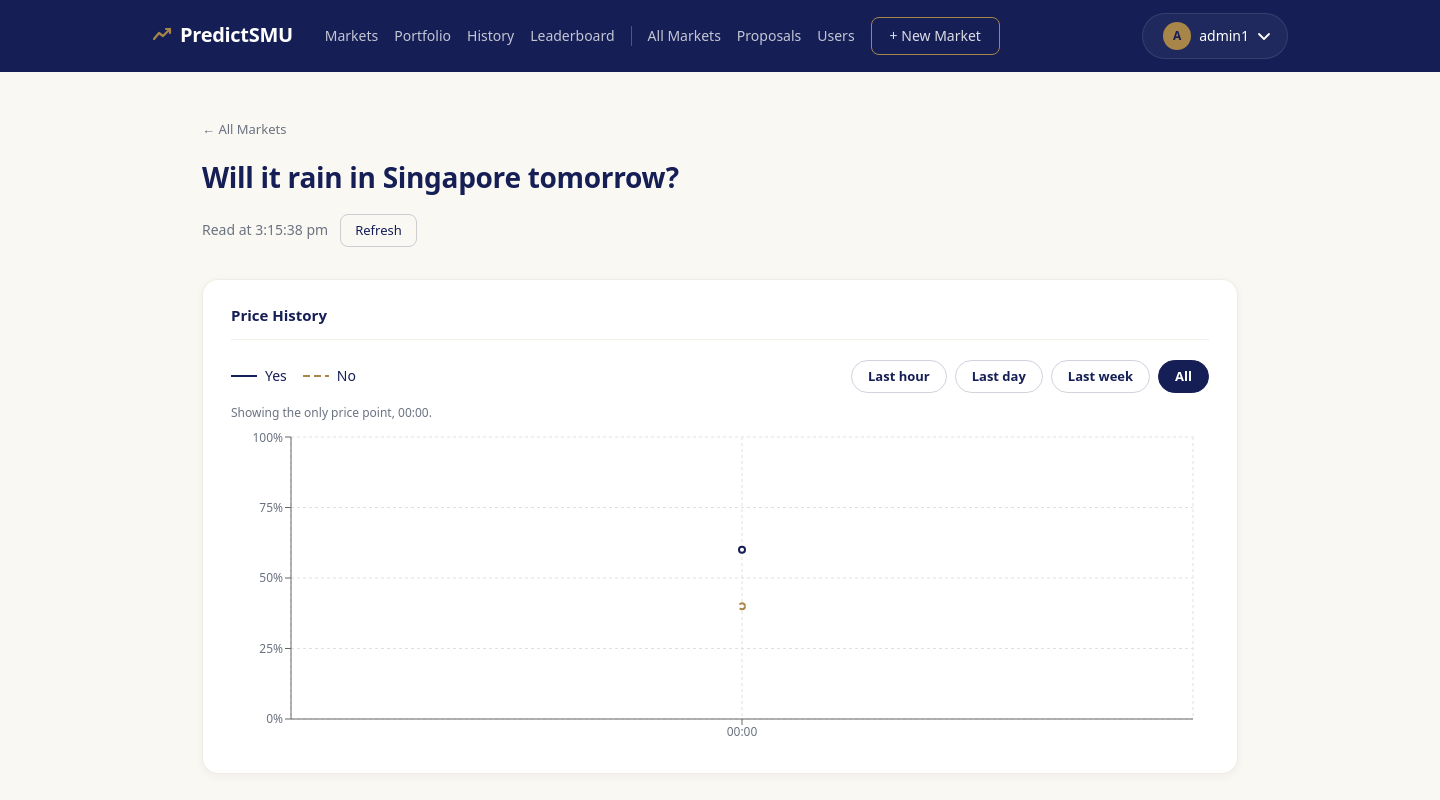
Test case: MarketPriceHistoryPage › says when the screen was read, and reads the chart and the trade log again on Refresh
Expected: the text "Showing the only price point, 00:00." is shown, [231,404,432,421]
Expected: the text "Read at 3:15:38 pm" is shown, [202,220,328,240]
Click the button "Refresh". click: (378, 230)
box: [340,214,417,247]
(page scrolled)
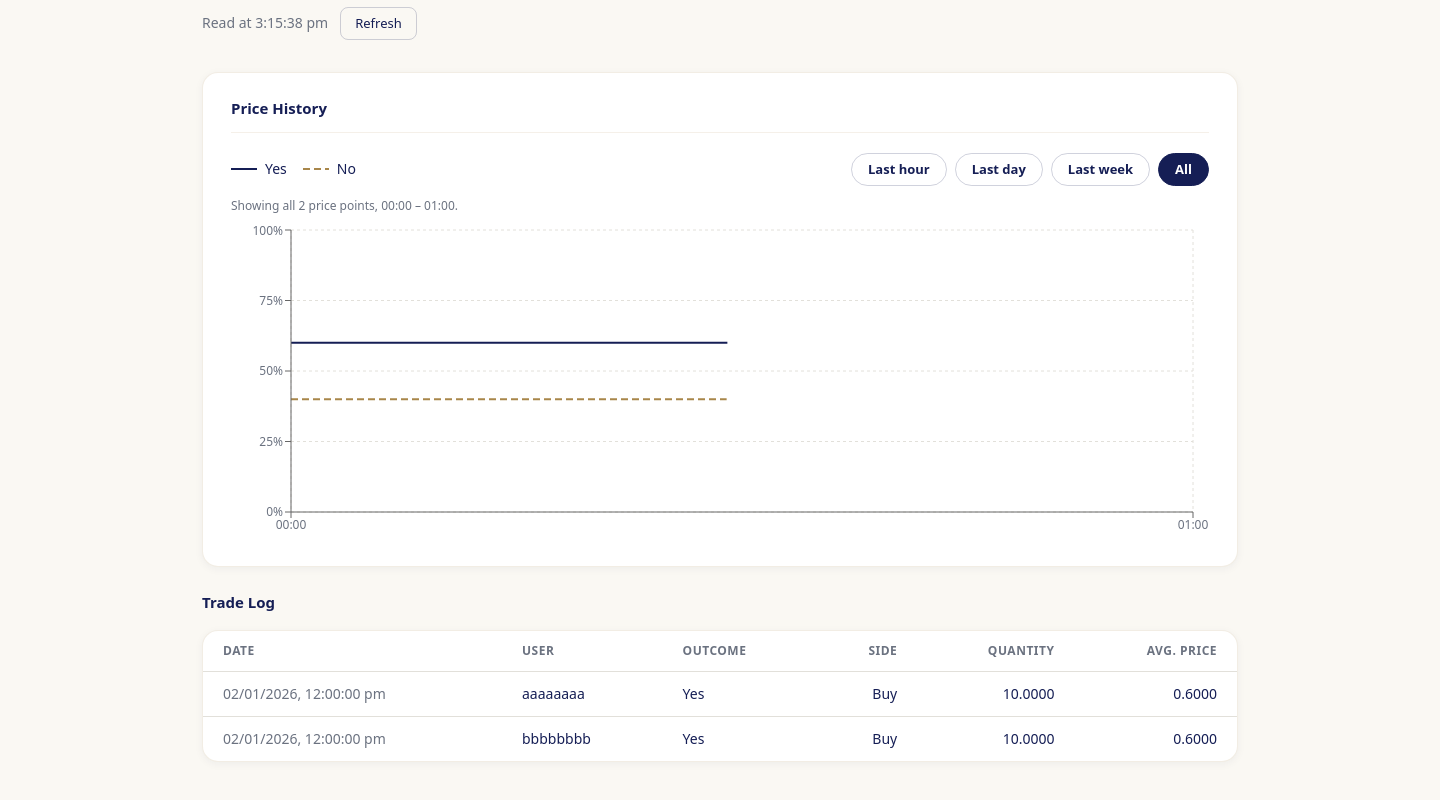
Now the text "Showing all 2 price points, 00:00 – 01:00." is shown, box [231,197,458,214]
Now the link "bbbbbbbb" is shown, box [522,728,591,748]
